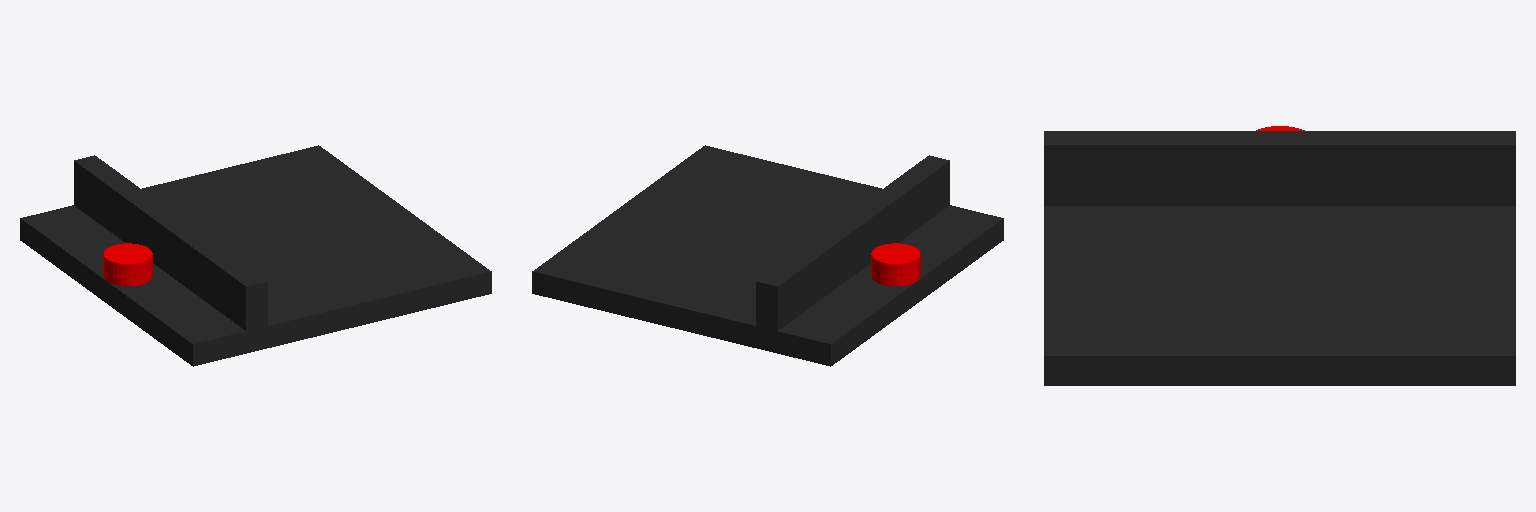
robot.urdf — rover:
<?xml version="1.0" ?>
<robot name="rover">
    <!-- main center object -->
    <link name="base_link">
        <visual>
            <geometry>
                <box size="0.7 0.7 0.05"/>
            </geometry>
            <material name="gray">
                <color rgba="0.2 0.2 0.2 1"/>
            </material>
        </visual>
        <inertial>
            <mass value="5"/>
            <inertia ixx="0.04" ixy="0.0" ixz="0.0" iyy="0.17" iyz="0.0" izz="0.25" />
        </inertial>
        <collision>
            <geometry>
                <box size="0.7 0.7 0.05"/>
            </geometry>
        </collision>
    </link>

    <link name = "wall_link">
        <visual>
            <geometry>
                <box size = "0.05 0.7 0.1"/>
            </geometry>
            <material name="gray">
                <color rgba="0.2 0.2 0.2 1"/>
            </material>
        </visual>
        <inertial>
            <mass value="5"/>
            <inertia ixx="0.04" ixy="0.0" ixz="0.0" iyy="0.17" iyz="0.0" izz="0.25" />
        </inertial>
        <collision>
            <geometry>
                <box size = "0.05 0.7 0.1"/>
            </geometry>
        </collision>
    </link>

	<joint name = "wall_joint" type = "fixed">
    	<parent link = "base_link"/>
      	<child link = "wall_link"/>
      <origin xyz = "-0.2 0 0.075" rpy = "0 0 0"/>
	</joint>
    
    
  <link name="base_footprint">
   <visual>
      <origin xyz="0 0 0" rpy="0 0 0" />
      <geometry>
        <box size="0.001 0.001 0.001" />
      </geometry>
    </visual>
  </link>

    <!-- add lidar object -->
<!-- add lidar object -->
<link name="lidar_link">
  <inertial>
    <mass value="0.5"/>
    <inertia ixx="0.01" ixy="0.0" ixz="0" iyy="0.01" iyz="0" izz="0.01"/>
  </inertial>
  <visual>
    <geometry>
      <cylinder radius="0.05" length="0.05"/>
    </geometry>
    <material name="red">
      <color rgba="1 0 0 0.7"/>
    </material>
  </visual>
</link>

<!-- add lidar joint -->
<joint name="lidar_joint" type="fixed">
  <origin xyz="-0.30 0 0.05" rpy="0 0.0 1.56"/>
  <parent link="base_link"/>
  <child link="lidar_link"/>
  <axis xyz="0.0 0.0 1.0"/>
</joint>

  <joint name="base_joint" type="fixed">
        <parent link="base_footprint"/>
        <child link="base_link"/>
        <origin xyz="0.0 0.0 -0.075" rpy="0 0 0"/>
    </joint>
  <gazebo>
    <plugin name="object_controller" filename="libgazebo_ros_planar_move.so">
      <commandTopic>cmd_vel</commandTopic>
      <odometryTopic>odom</odometryTopic>
      <odometryFrame>odom</odometryFrame>
      <odometryRate>20.0</odometryRate>
      <robotBaseFrame>base_link</robotBaseFrame>
      <cmdTimeout>2.0</cmdTimeout>
    </plugin>
  </gazebo>

  <!-- lidar plugin -->
<gazebo reference="lidar_link">
    <sensor name="gazebo_lidar" type="ray">
        <always_on>true</always_on>
        <visualize>true</visualize>
        <update_rate>60</update_rate>
        <plugin filename="libgazebo_ros_ray_sensor.so" name="gazebo_lidar">
            <ros>
                <remapping>~/out:=scan</remapping>
            </ros>
            <output_type>sensor_msgs/LaserScan</output_type>
            <frame_name>lidar_link</frame_name>
        </plugin>
        <ray>
            <scan>
                <horizontal>
                    <samples>360</samples>
                    <resolution>1.000000</resolution>
                    <min_angle>0.000000</min_angle>
                    <max_angle>3.140000</max_angle>
                </horizontal>
            </scan>
            <range>
                <min>0.150</min>
                <max>6.0</max>
                <resolution>0.015</resolution>
            </range>
            <noise>
                <type>gaussian</type>
                <mean>0.0</mean>
                <stddev>0.01</stddev>
            </noise>
        </ray>
    </sensor>
    <material>Gazebo/DarkGrey</material>
</gazebo>

</robot>

--- Render facts (derived) ---
The picture shows the robot from 3 angles, left to right: view 1: azimuth 30°, elevation 25°; view 2: azimuth 150°, elevation 25°; view 3: azimuth 270°, elevation 25°; orthographic projection.
Model rover with 4 links and 3 joints (3 fixed), rooted at base_footprint, posed every joint at zero.
Visible links, largest first — view 1: base_link, wall_link, lidar_link; view 2: base_link, wall_link, lidar_link; view 3: base_link, wall_link.
Link boxes in pixels (x1,y1,x2,y2): base_link: (20,145,491,366); wall_link: (74,155,267,330); lidar_link: (103,243,152,285); base_link: (532,145,1003,366); wall_link: (756,155,949,330); lidar_link: (871,243,920,285); base_link: (1044,206,1515,385); wall_link: (1044,131,1515,205).
Size in the robot's own frame: 0.7 by 0.7 by 0.15 metres.
Geometry: primitives only (box / cylinder / sphere), no mesh files.
